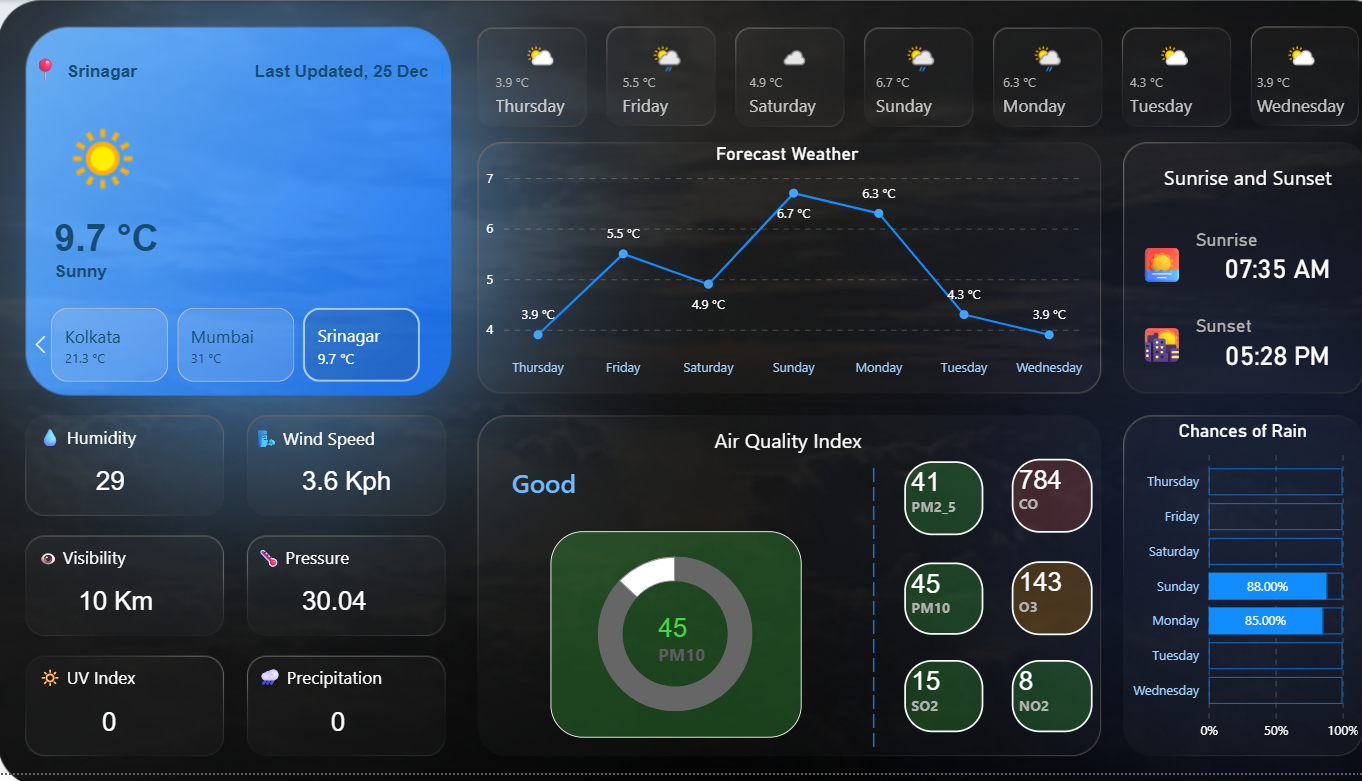

This screenshot's page, from the dashboard's own definition file:
{"tool":"powerbi","page":{"name":"Page 1","canvas":[1280,720],"ordinal":0},"visuals":[{"type":"donutChart","fields":{"Y":["_measures.max_value","Sum(current.current.air_quality.pm10)"]},"box":[523.3,494.2,233.7,191.9],"z":0},{"type":"advancedSlicerVisual","fields":{"Values":["locations.location.name"]},"box":[33.7,281.4,394.2,79.1],"z":1000},{"type":"multiRowCard","fields":{"Values":["_measures.curr_temp_c"]},"box":[57,197.7,300,55.8],"z":2000},{"type":"multiRowCard","fields":{"Values":["current.current.condition.text"]},"box":[56.6,238.1,139.1,29.5],"z":3000},{"type":"multiRowCard","fields":{"Values":["locations.location.name"]},"box":[68.6,52.3,88.4,29.1],"z":4000},{"type":"multiRowCard","fields":{"Values":["_measures.last_updated_date_crr"]},"box":[243,52.3,184.9,29.1],"z":5000},{"type":"textbox","box":[33.7,44.2,45.3,46.5],"z":6000},{"type":"textbox","box":[41.9,390.7,140.7,38.4],"z":7000},{"type":"textbox","box":[246.5,614,140.7,38.4],"z":8000},{"type":"textbox","box":[245.3,502.3,140.7,38.4],"z":9000},{"type":"textbox","box":[41.9,614,140.7,38.4],"z":10000},{"type":"textbox","box":[41.9,502.3,140.7,38.4],"z":11000},{"type":"textbox","box":[243,391.9,140.7,38.4],"z":12000},{"type":"multiRowCard","fields":{"Values":["Sum(current.current.humidity)"]},"box":[95.3,429.1,100,66.3],"z":13000},{"type":"multiRowCard","fields":{"Values":["_measures.wind_speed"]},"box":[287.2,429.1,140.7,65.1],"z":14000},{"type":"multiRowCard","fields":{"Values":["_measures.visibility"]},"box":[79.1,540.7,147.7,66.3],"z":15000},{"type":"multiRowCard","fields":{"Values":["Sum(current.current.pressure_in)"]},"box":[287.2,540.7,100,66.3],"z":16000},{"type":"multiRowCard","fields":{"Values":["Sum(current.current.precip_in)"]},"box":[314,653.5,100,66.3],"z":17000},{"type":"multiRowCard","fields":{"Values":["Sum(current.current.uv)"]},"box":[101.2,653.5,100,66.3],"z":18000},{"type":"cardVisual","fields":{"Data":["Min(current.current.condition.icon)"]},"box":[28.3,89.6,173.3,116.7],"z":19000},{"type":"advancedSlicerVisual","fields":{"Values":["forecast_day.day_name"]},"box":[458.1,19.8,822.1,102.3],"z":20000},{"type":"lineChart","title":"Forecast Weather","fields":{"Y":["Sum(forecast_day.forecast.forecastday.day.avgtemp_c)"],"Category":["forecast_day.day_name"]},"box":[458.1,132.6,570.9,227.9],"z":21000},{"type":"textbox","box":[1064,147.7,216.3,58.1],"z":22000},{"type":"card","title":"Sunrise","fields":{"Values":["Min(forecast_day.sunrise)"]},"box":[1118.6,212.8,161.6,54.7],"z":23000},{"type":"card","title":" Sunset","fields":{"Values":["Min(forecast_day.sunset)"]},"box":[1118.6,293,161.6,54.7],"z":24000},{"type":"textbox","box":[1065.1,293,53.5,55.8],"z":25000},{"type":"textbox","box":[1065.1,218.6,70.9,67.4],"z":26000},{"type":"hundredPercentStackedBarChart","title":"Chances of Rain","fields":{"Category":["forecast_day.day_name"],"Y":["Sum(forecast_day.forecast.forecastday.day.daily_chance_of_rain)","_measures.left_value_rain"]},"box":[1054.7,390.7,225.6,307],"z":27000},{"type":"textbox","box":[646.5,391.9,195.3,40.7],"z":28000},{"type":"multiRowCard","fields":{"Values":["Sum(current.current.air_quality.co)"]},"box":[952.3,426.7,75.6,68.6],"z":29000},{"type":"multiRowCard","fields":{"Values":["Sum(current.current.air_quality.o3)"]},"box":[952.3,522.1,75.6,68.6],"z":30000},{"type":"multiRowCard","fields":{"Values":["Sum(current.current.air_quality.no2)"]},"box":[952.3,614,75.6,67.4],"z":31000},{"type":"multiRowCard","fields":{"Values":["Sum(current.current.air_quality.pm2_5)"]},"box":[852.3,429.1,73.3,68.6],"z":32000},{"type":"multiRowCard","fields":{"Values":["Sum(current.current.air_quality.pm10)"]},"box":[852.3,523.3,73.3,67.4],"z":33000},{"type":"multiRowCard","fields":{"Values":["Sum(current.current.air_quality.so2)"]},"box":[852.3,614,73.3,67.4],"z":34000},{"type":"textbox","box":[817.4,426.7,34.9,293],"z":35000},{"type":"multiRowCard","fields":{"Values":["Sum(current.current.air_quality.pm10)"]},"box":[618.6,566.3,73.3,67.4],"z":36000},{"type":"cardVisual","fields":{"Data":["_measures.air_quality_status"]},"box":[458.1,394.2,298.8,108.1],"z":37001}]}

Visuals, with their boxes in screenshot pixels (x1, y1, x2, y2), scaled from the page's 1280x720 canvas onto the 1362x781 screenshot:
donutChart - _measures.max_value x Sum(current.current.air_quality.pm10): box=[557, 536, 805, 744]
advancedSlicerVisual - locations.location.name: box=[36, 305, 455, 391]
multiRowCard - _measures.curr_temp_c: box=[61, 214, 380, 275]
multiRowCard - current.current.condition.text: box=[60, 258, 208, 290]
multiRowCard - locations.location.name: box=[73, 57, 167, 88]
multiRowCard - _measures.last_updated_date_crr: box=[259, 57, 455, 88]
textbox: box=[36, 48, 84, 98]
textbox: box=[45, 424, 194, 465]
textbox: box=[262, 666, 412, 708]
textbox: box=[261, 545, 411, 587]
textbox: box=[45, 666, 194, 708]
textbox: box=[45, 545, 194, 587]
textbox: box=[259, 425, 408, 467]
multiRowCard - Sum(current.current.humidity): box=[101, 465, 208, 537]
multiRowCard - _measures.wind_speed: box=[306, 465, 455, 536]
multiRowCard - _measures.visibility: box=[84, 587, 241, 658]
multiRowCard - Sum(current.current.pressure_in): box=[306, 587, 412, 658]
multiRowCard - Sum(current.current.precip_in): box=[334, 709, 441, 780]
multiRowCard - Sum(current.current.uv): box=[108, 709, 214, 780]
cardVisual - Min(current.current.condition.icon): box=[30, 97, 215, 224]
advancedSlicerVisual - forecast_day.day_name: box=[487, 21, 1361, 132]
"Forecast Weather" lineChart: box=[487, 144, 1095, 391]
textbox: box=[1132, 160, 1361, 223]
"Sunrise" card: box=[1190, 231, 1361, 290]
" Sunset" card: box=[1190, 318, 1361, 377]
textbox: box=[1133, 318, 1190, 378]
textbox: box=[1133, 237, 1209, 310]
"Chances of Rain" hundredPercentStackedBarChart: box=[1122, 424, 1361, 757]
textbox: box=[688, 425, 896, 469]
multiRowCard - Sum(current.current.air_quality.co): box=[1013, 463, 1094, 537]
multiRowCard - Sum(current.current.air_quality.o3): box=[1013, 566, 1094, 641]
multiRowCard - Sum(current.current.air_quality.no2): box=[1013, 666, 1094, 739]
multiRowCard - Sum(current.current.air_quality.pm2_5): box=[907, 465, 985, 540]
multiRowCard - Sum(current.current.air_quality.pm10): box=[907, 568, 985, 641]
multiRowCard - Sum(current.current.air_quality.so2): box=[907, 666, 985, 739]
textbox: box=[870, 463, 907, 780]
multiRowCard - Sum(current.current.air_quality.pm10): box=[658, 614, 736, 687]
cardVisual - _measures.air_quality_status: box=[487, 428, 805, 545]
